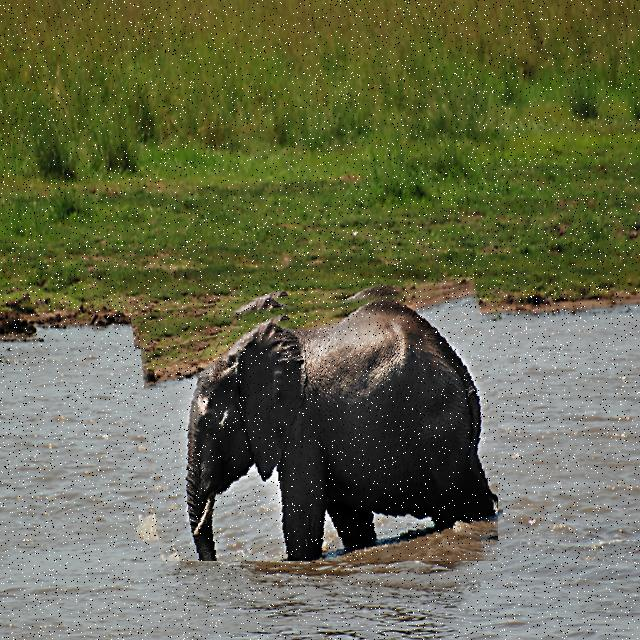elephant: (138, 283, 498, 561)
